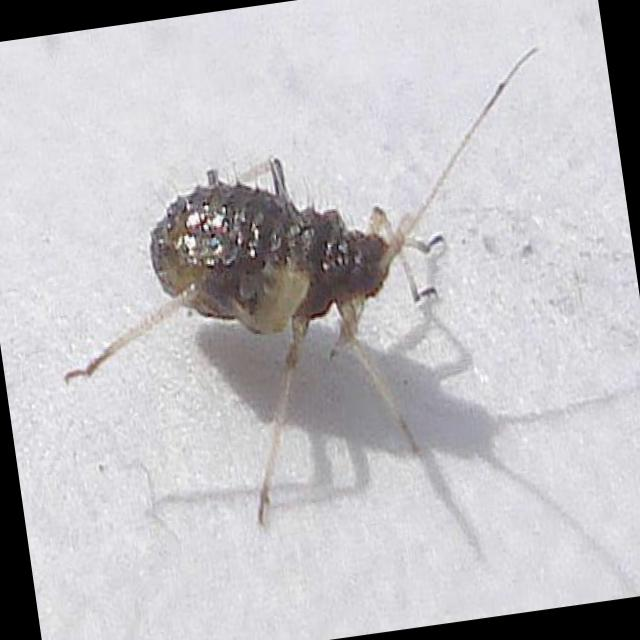Aphids: (31, 73, 566, 550)
